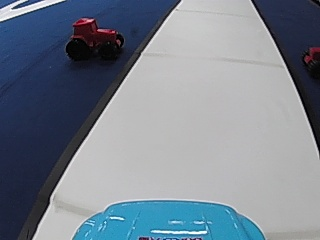tractor: (65, 14, 126, 61)
